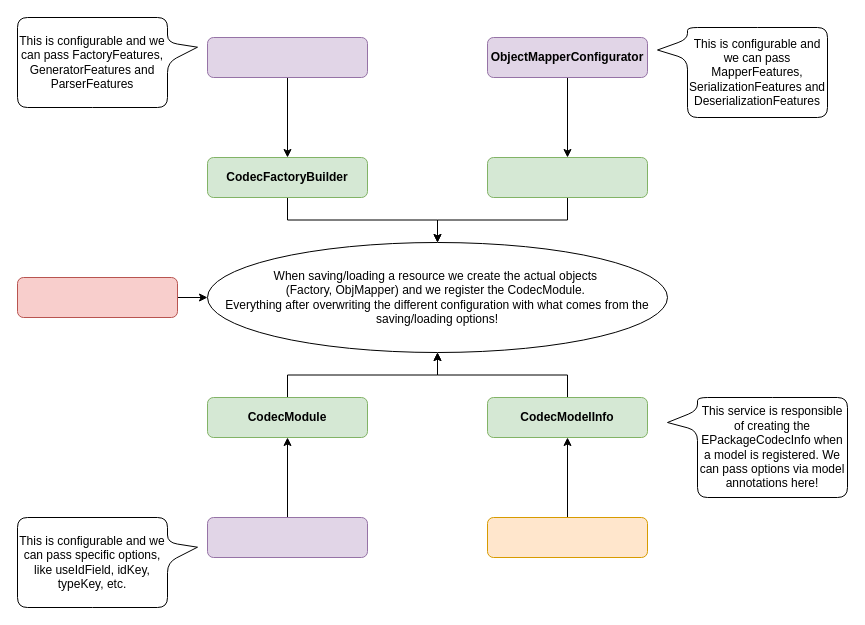
The diagram is 865 pixels wide and 625 high, and some of its shapes have lost their labels. Here are the shapes that lost their labels. From the top down, the centre of each, then its label:
the point at 287,57: CodecFactoryConfigurator
the point at 567,177: ObjectMapperBuilder
the point at 97,297: Resource#save(options) Resource#load(options)
the point at 287,537: CodecModuleConfigurator
the point at 567,537: EPackage
